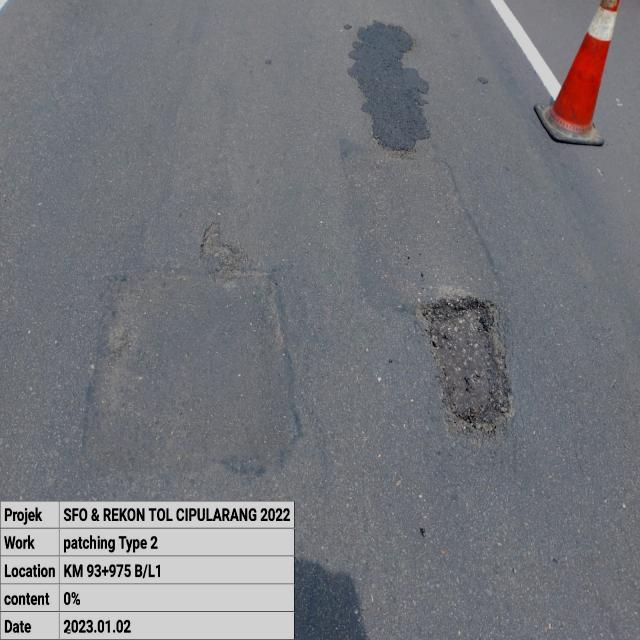Buraco: (409, 292, 521, 446)
